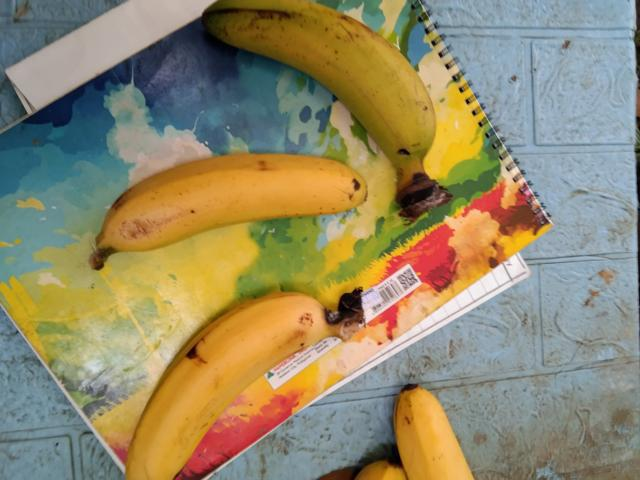freshripe: (103, 283, 328, 479)
ripe: (185, 0, 435, 153), (86, 151, 385, 253)
